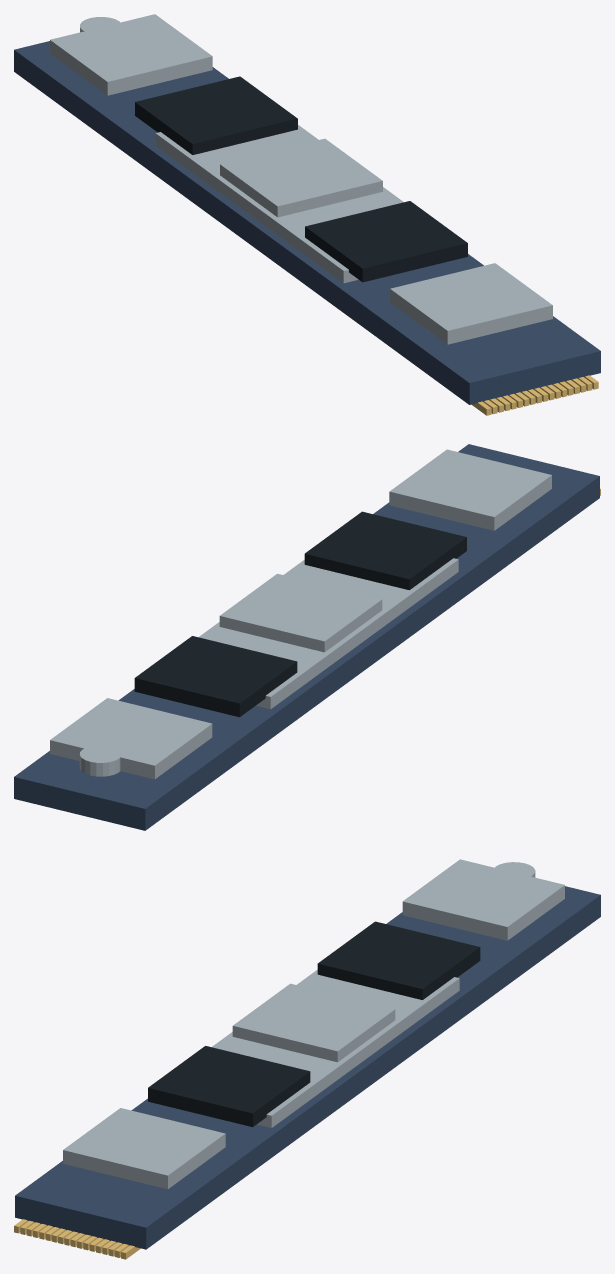
The model's file is nvme-1tb.glb.
3 renders of one model, top to bottom at view 1: azimuth 30°, elevation 25°; view 2: azimuth 150°, elevation 25°; view 3: azimuth 330°, elevation 25°, orthographic.
Visible parts, largest first — view 1: nvme-1tb; view 2: nvme-1tb; view 3: nvme-1tb.
Boxes of the visible parts, <box> form: nvme-1tb: <box>14,14,600,415</box>; nvme-1tb: <box>14,444,600,830</box>; nvme-1tb: <box>14,859,600,1259</box>.
Size of the model in its own units: 0.25 by 0.0935 by 1.53.
